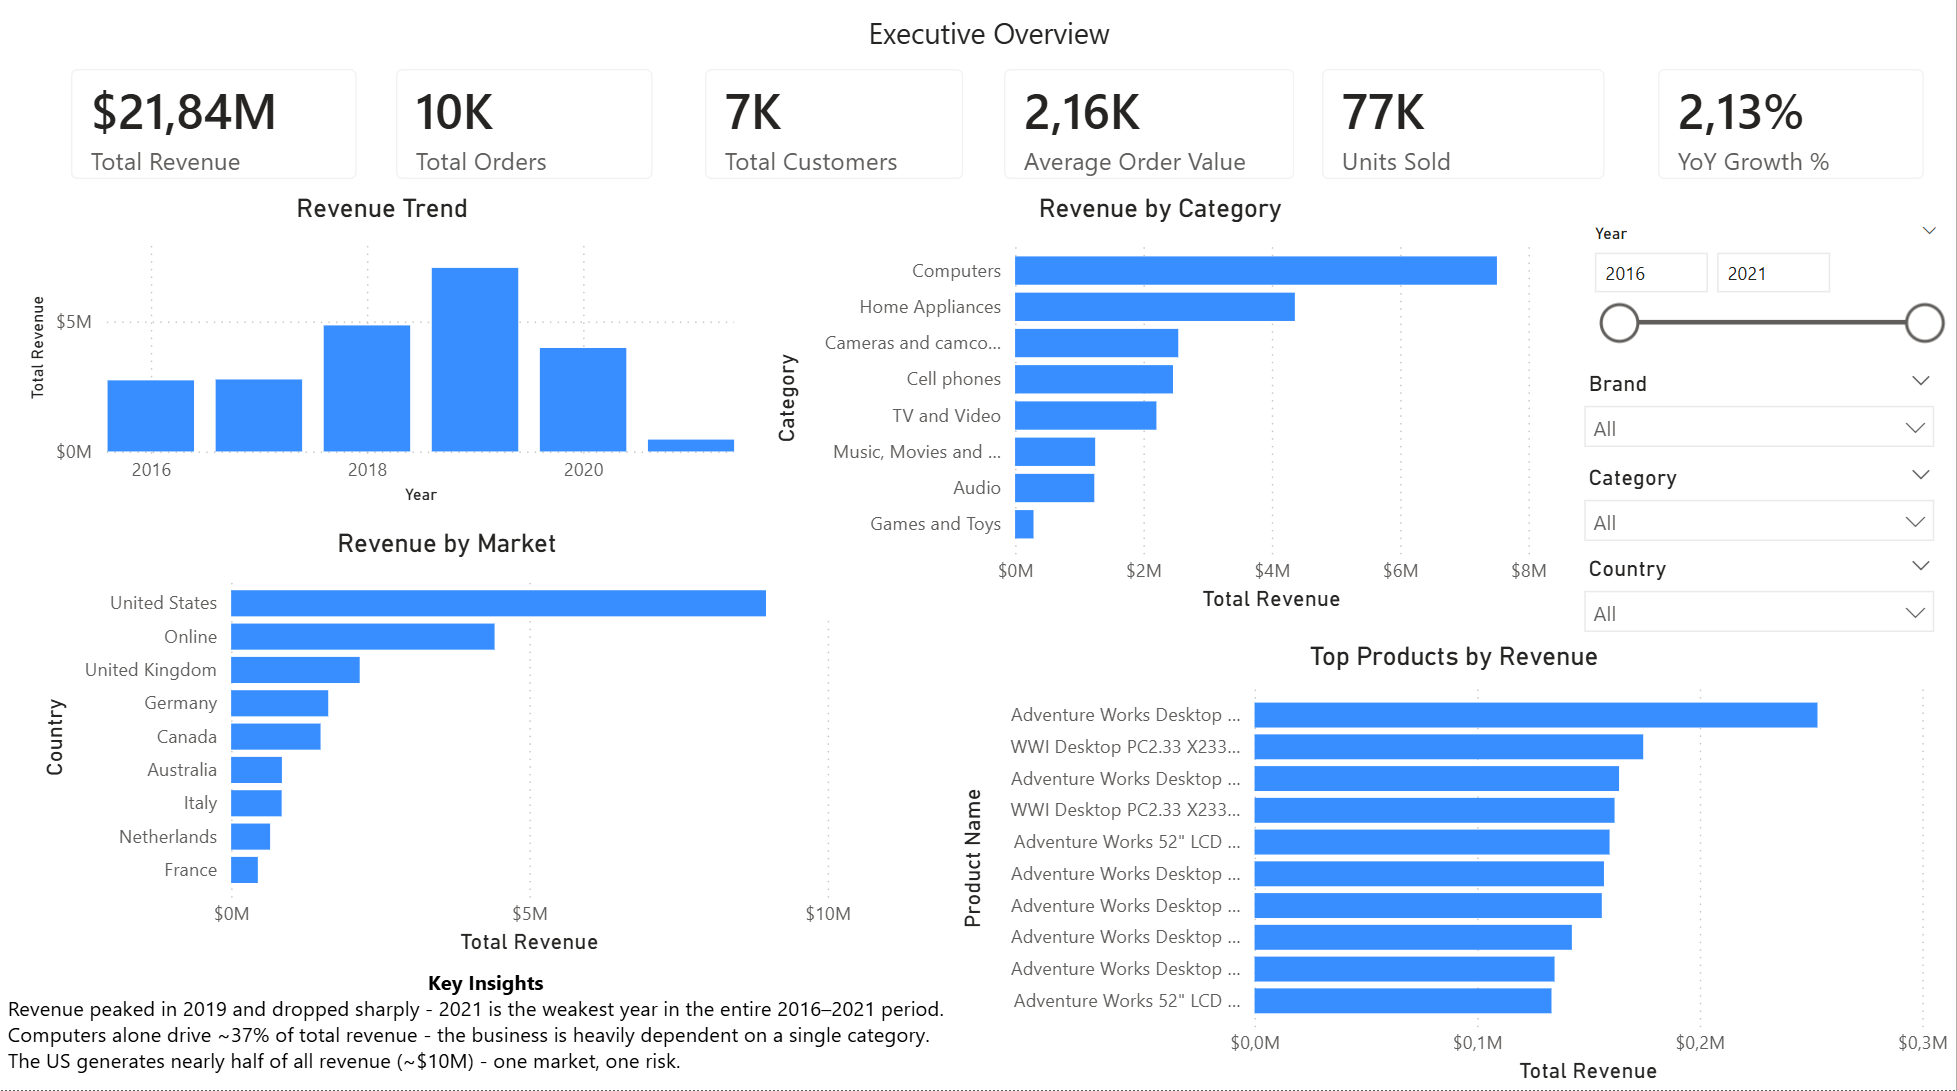

The page's visual inventory and layout, read from the dashboard file:
{"tool":"powerbi","page":{"name":"Executive Overview","canvas":[1280,720],"ordinal":0},"visuals":[{"type":"cardVisual","fields":{"Data":["Sales.Total Revenue"]},"box":[29.2,34.6,221,106.4],"z":0},{"type":"cardVisual","fields":{"Data":["Sales.Total Orders"]},"box":[242,34.6,202,106.4],"z":1000},{"type":"cardVisual","fields":{"Data":["Sales.Total Customers"]},"box":[444.1,34.6,203.4,106.4],"z":2000},{"type":"cardVisual","fields":{"Data":["Sales.Average Order Value"]},"box":[640,34.6,224.4,106.4],"z":3000},{"type":"barChart","title":" Revenue by Market","fields":{"Category":["Stores.Country"],"Y":["Sales.Total Revenue"]},"box":[22.4,351.9,540.3,283.4],"z":4000},{"type":"barChart","title":"Top Products by Revenue","fields":{"Category":["Products.Product Name"],"Y":["Sales.Total Revenue"]},"box":[623.1,425.8,656.9,294.2],"z":5000},{"type":"columnChart","title":"Revenue Trend","fields":{"Category":["Calendar.Year"],"Y":["Sales.Total Revenue"]},"box":[14.2,132.9,471.2,208.1],"z":6000},{"type":"clusteredBarChart","title":"Revenue by Category","fields":{"Category":["Products.Category"],"Y":["Sales.Total Revenue"]},"box":[501,132.9,515.9,278],"z":7000},{"type":"cardVisual","fields":{"Data":["Sales.Units Sold"]},"box":[848.1,34.6,219.7,106.4],"z":8000},{"type":"cardVisual","fields":{"Data":["Sales.YoY Growth %"]},"box":[1067.8,34.6,208.1,106.4],"z":9000},{"type":"slicer","fields":{"Values":["Products.Brand"]},"box":[1026.4,244.1,249.5,61.7],"z":12000},{"type":"slicer","fields":{"Values":["Products.Category"]},"box":[1026.4,305.8,249.5,59.7],"z":13000},{"type":"slicer","fields":{"Values":["Calendar.Year"]},"box":[1030.5,147.8,249.5,96.3],"z":13001},{"type":"slicer","fields":{"Values":["Customers.Country"]},"box":[1026.4,365.4,249.5,60.3],"z":13002},{"type":"textbox","box":[497.6,10.2,299.7,34.6],"z":13003},{"type":"textbox","box":[0,635.3,631.9,84.7],"z":13004}]}

Visuals, with their boxes in screenshot pixels (x1, y1, x2, y2), scaled from the page's 1280x720 canvas onto the 1957x1091 screenshot:
cardVisual - Sales.Total Revenue: (left=45, top=52, right=383, bottom=214)
cardVisual - Sales.Total Orders: (left=370, top=52, right=679, bottom=214)
cardVisual - Sales.Total Customers: (left=679, top=52, right=990, bottom=214)
cardVisual - Sales.Average Order Value: (left=978, top=52, right=1322, bottom=214)
" Revenue by Market" barChart: (left=34, top=533, right=860, bottom=963)
"Top Products by Revenue" barChart: (left=953, top=645, right=1956, bottom=1090)
"Revenue Trend" columnChart: (left=22, top=201, right=742, bottom=517)
"Revenue by Category" clusteredBarChart: (left=766, top=201, right=1555, bottom=623)
cardVisual - Sales.Units Sold: (left=1297, top=52, right=1633, bottom=214)
cardVisual - Sales.YoY Growth %: (left=1633, top=52, right=1951, bottom=214)
slicer - Products.Brand: (left=1569, top=370, right=1951, bottom=463)
slicer - Products.Category: (left=1569, top=463, right=1951, bottom=554)
slicer - Calendar.Year: (left=1576, top=224, right=1956, bottom=370)
slicer - Customers.Country: (left=1569, top=554, right=1951, bottom=645)
textbox: (left=761, top=15, right=1219, bottom=68)
textbox: (left=0, top=963, right=966, bottom=1090)
